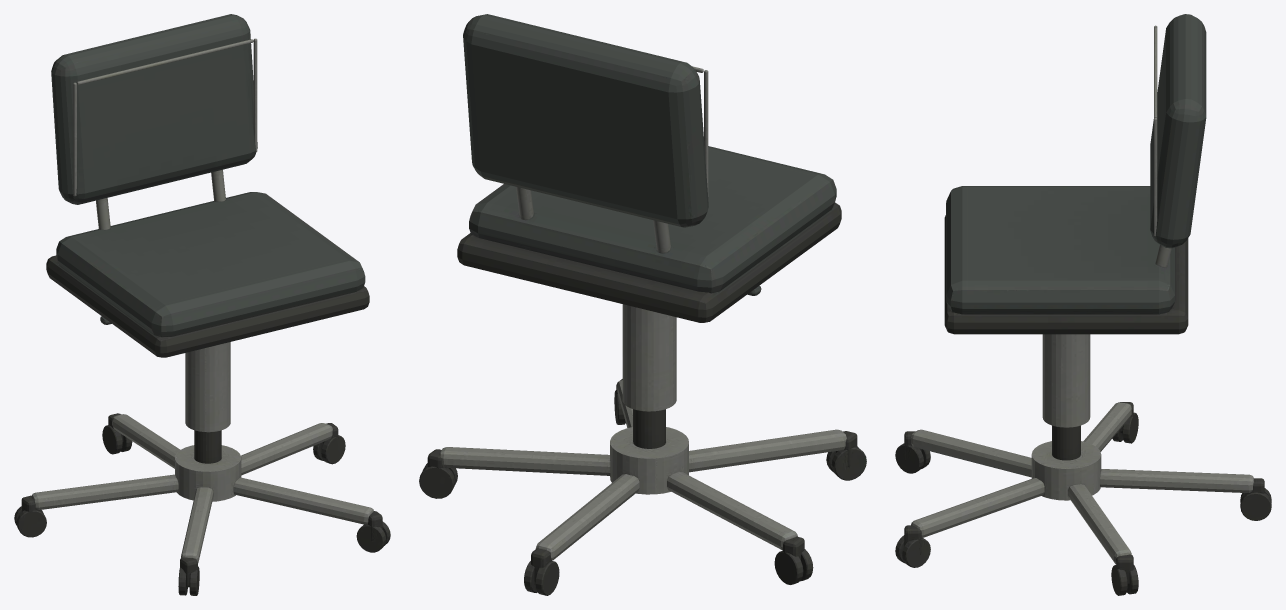
The model's file is props-office-chair-a.glb.
3 renders of one model, left to right at view 1: azimuth 30°, elevation 25°; view 2: azimuth 150°, elevation 25°; view 3: azimuth 270°, elevation 25°, orthographic. The views are drawn at different scales.
Parts seen in each view (by area): view 1: case-baked; view 2: case-baked; view 3: case-baked.
Boxes of the visible parts, <box> form: case-baked: <box>14,14,390,595</box>; case-baked: <box>419,14,866,595</box>; case-baked: <box>895,14,1271,595</box>.
Size of the model in its own units: 0.6827 by 0.8771 by 0.6492.
1 material, 1 textured.
